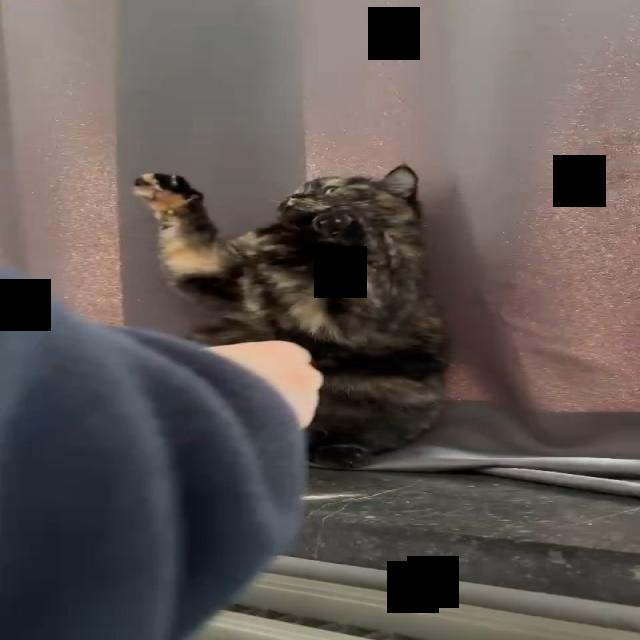authorized: (129, 162, 452, 469)
